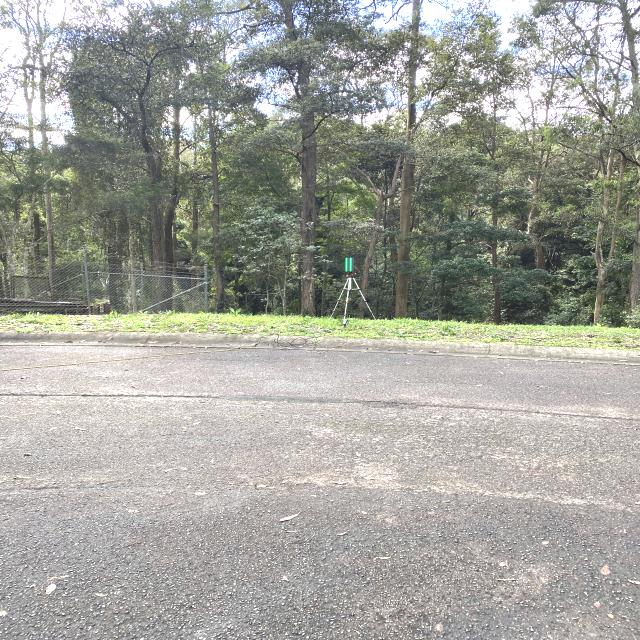matrix: (344, 257, 354, 272)
